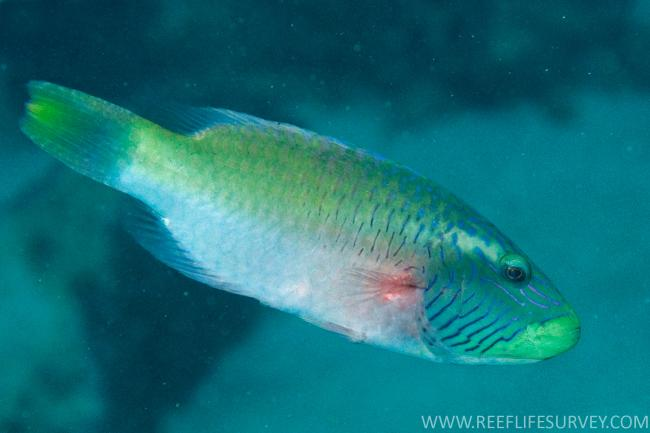fish: (18, 78, 579, 366)
